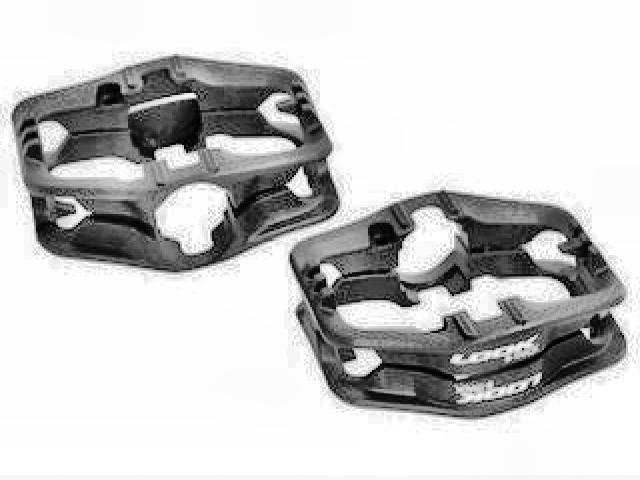pedal: (285, 187, 633, 418), (9, 50, 343, 279)
